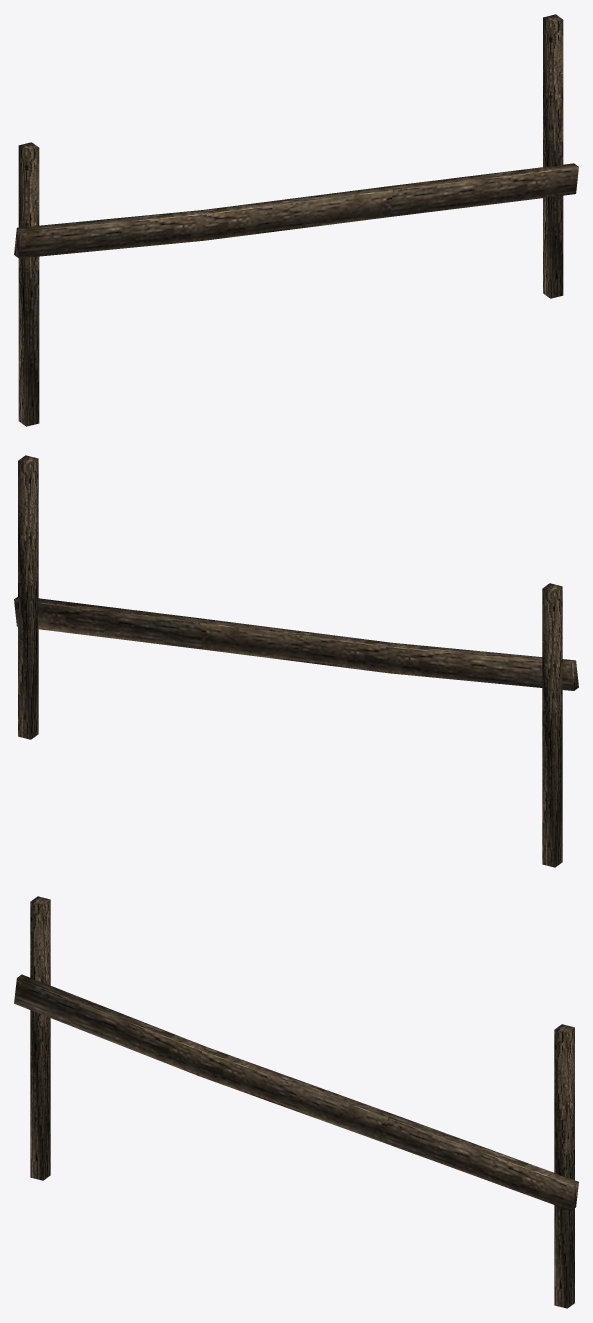
The model's file is Fence 3.fbx.
The picture shows the model from 3 angles, top to bottom: view 1: azimuth 30°, elevation 25°; view 2: azimuth 150°, elevation 25°; view 3: azimuth 330°, elevation 25°; orthographic projection.
Parts seen in each view (by area): view 1: Fence 3; view 2: Fence 3; view 3: Fence 3.
Boxes of the visible parts, x1,y1,x2,y2 form: Fence 3: (14,14,578,426); Fence 3: (14,455,578,867); Fence 3: (14,896,578,1308).
Size of the model in its own units: 2.99 by 1.41 by 0.1107.
